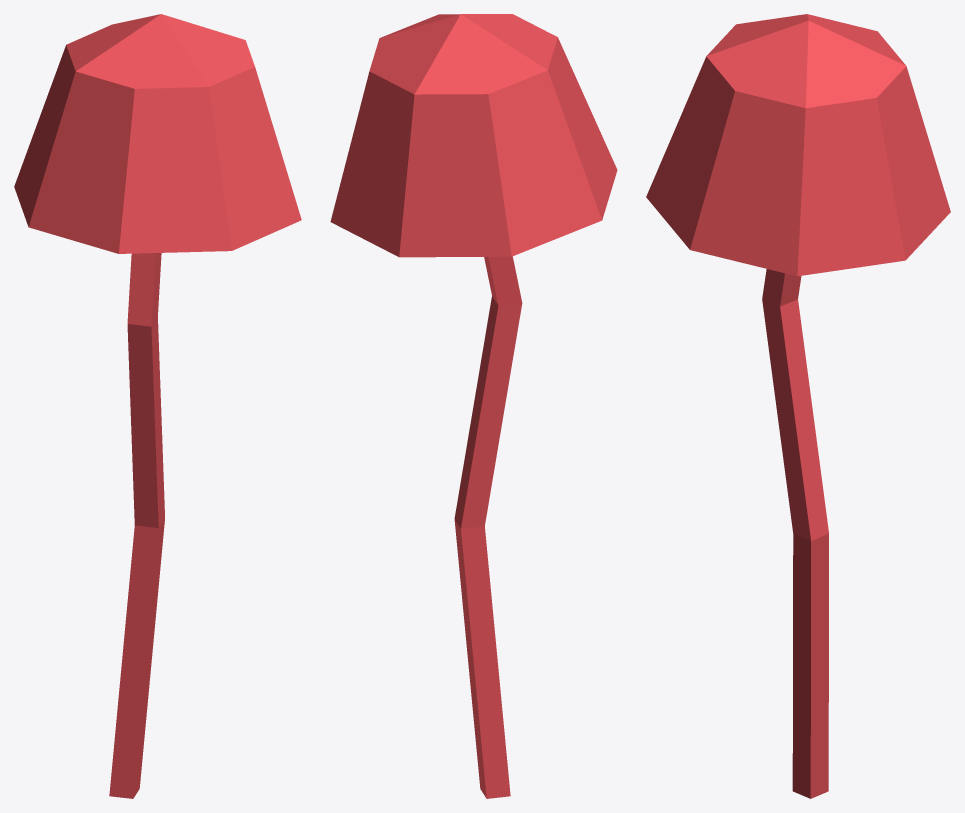
The model's file is Mushroom_c_02.fbx.
3 renders of one model, left to right at view 1: azimuth 30°, elevation 25°; view 2: azimuth 150°, elevation 25°; view 3: azimuth 270°, elevation 25°, orthographic. The views are drawn at different scales.
Parts seen in each view (by area): view 1: Mushroom_c_02; view 2: Mushroom_c_02; view 3: Mushroom_c_02.
Part boxes in pixels (<box>): Mushroom_c_02: <box>14,14,301,798</box>; Mushroom_c_02: <box>330,14,617,798</box>; Mushroom_c_02: <box>646,14,950,798</box>.
Bounding box in the file's own units: 0.1472 × 0.4203 × 0.1472.
